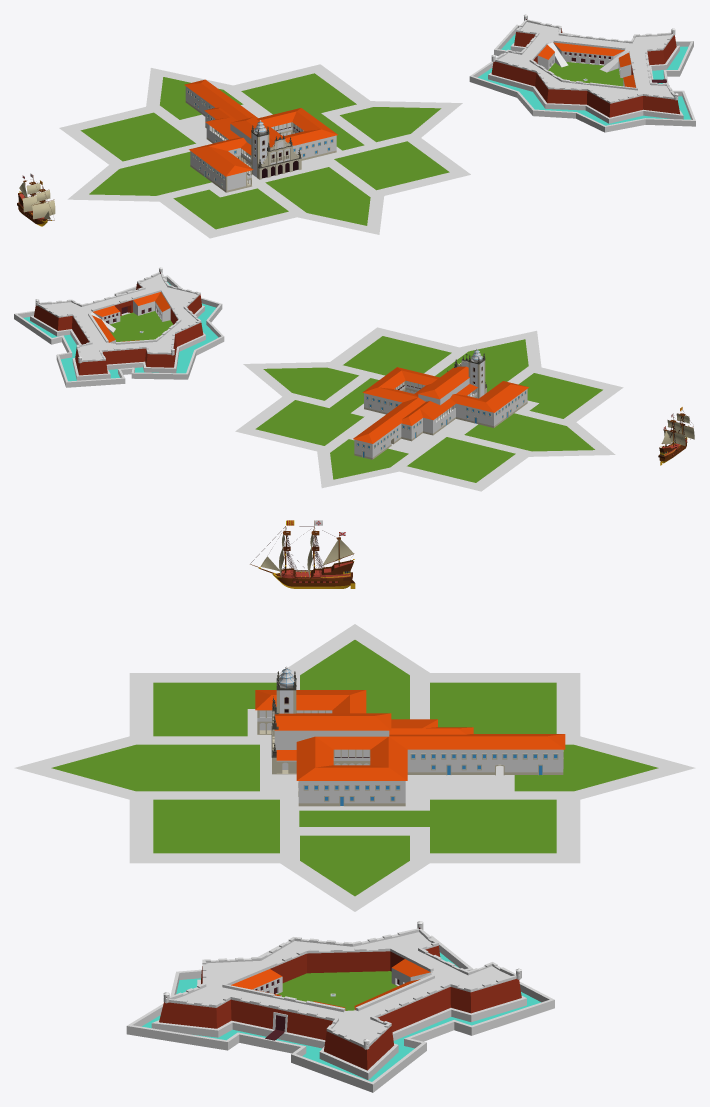
The model's file is proj.glb.
3 views of the same model, one above another, from view 1: azimuth 30°, elevation 25°; view 2: azimuth 150°, elevation 25°; view 3: azimuth 270°, elevation 25° (orthographic). The views are drawn at different scales.
Visible parts, largest first — view 1: Plane.095, Plane.012, Plane, Plane.007, Cube.011, Cube.010, Plane.006, Plane.004, Cube.012, Cube.013, Plane.002, Plane.005 (+3 smaller); view 2: Plane.095, Plane.012, Plane.007, Plane, Cube.012, Cube.011, Cube.010, Cube.013, Plane.004, Plane.005, Plane.006, Plane.002 (+1 smaller); view 3: Plane.095, Plane.012, Plane, Cube.010, Plane.007, Cube.013, Cube.012, Plane.004, Plane.005, Plane.002, Cube.011, Plane.006 (+1 smaller).
Boxes of the visible parts, bbox=[...] form: Plane.095: bbox=[59, 64, 470, 238]; Plane.012: bbox=[469, 24, 695, 132]; Plane: bbox=[491, 28, 679, 117]; Plane.007: bbox=[498, 22, 673, 100]; Cube.011: bbox=[189, 137, 253, 192]; Cube.010: bbox=[257, 108, 337, 160]; Plane.006: bbox=[537, 42, 635, 87]; Plane.004: bbox=[495, 19, 674, 102]; Cube.012: bbox=[204, 107, 288, 159]; Cube.013: bbox=[184, 79, 257, 120]; Plane.002: bbox=[495, 21, 674, 103]; Plane.005: bbox=[548, 62, 623, 86]; Plane.095: bbox=[235, 327, 623, 491]; Plane.012: bbox=[14, 275, 224, 387]; Plane.007: bbox=[41, 274, 196, 359]; Plane: bbox=[34, 283, 203, 375]; Cube.012: bbox=[401, 366, 477, 441]; Cube.011: bbox=[450, 381, 528, 427]; Cube.010: bbox=[362, 367, 439, 414]; Cube.013: bbox=[353, 397, 422, 459]; Plane.004: bbox=[37, 272, 201, 361]; Plane.005: bbox=[110, 311, 173, 341]; Plane.006: bbox=[92, 292, 170, 343]; Plane.002: bbox=[37, 273, 201, 362]; Plane.095: bbox=[14, 624, 695, 911]; Plane.012: bbox=[126, 935, 554, 1092]; Plane: bbox=[159, 945, 521, 1070]; Cube.010: bbox=[276, 734, 407, 806]; Plane.007: bbox=[175, 932, 510, 1043]; Cube.013: bbox=[389, 734, 565, 775]; Cube.012: bbox=[274, 713, 473, 750]; Plane.004: bbox=[168, 928, 516, 1046]; Plane.005: bbox=[277, 971, 397, 1010]; Plane.002: bbox=[168, 931, 516, 1047]; Cube.011: bbox=[255, 690, 366, 734]; Plane.006: bbox=[231, 959, 430, 1010].
Bounding box in the file's own units: 15.18 × 1.26 × 8.69.
32 materials, 3 textured.
